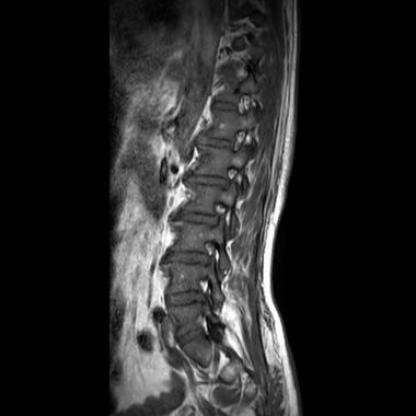Annular Tearrotation: (164, 287, 206, 311)
Disc Bulgerotation: (162, 249, 216, 270), (170, 208, 219, 229), (167, 290, 205, 311)
Disc Protrusionrotation: (185, 172, 233, 192)
